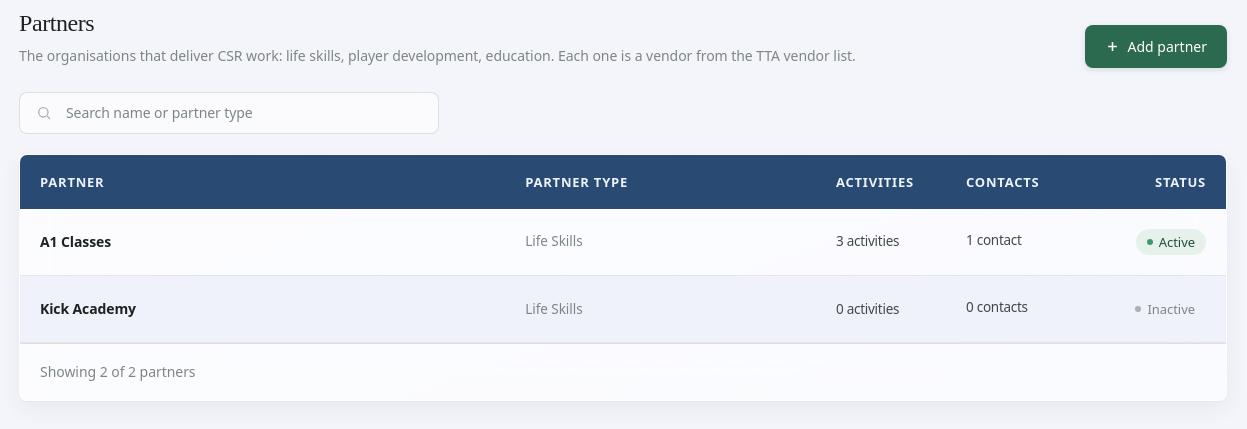
Test: search narrows the list
The width and height of the screenshot is (1247, 429).
Check: the text "A1 Classes" is shown, box [40,232,111,251]
Type "kick" into the field named "Search partners" at (243, 113), box [64,102,422,123]
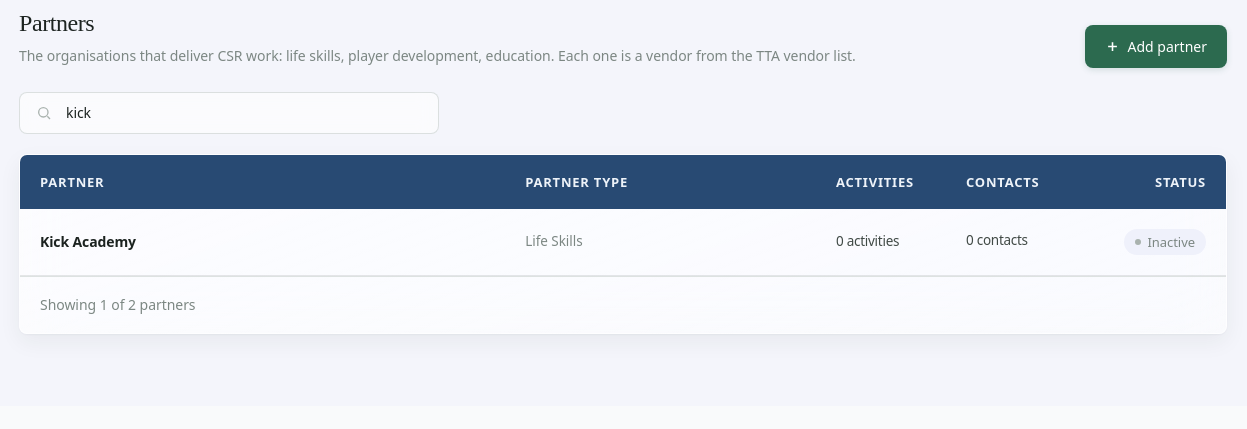
Check: the text "Kick Academy" is shown, box [40,232,136,251]
Check: the button "A1 Classes" is gone
